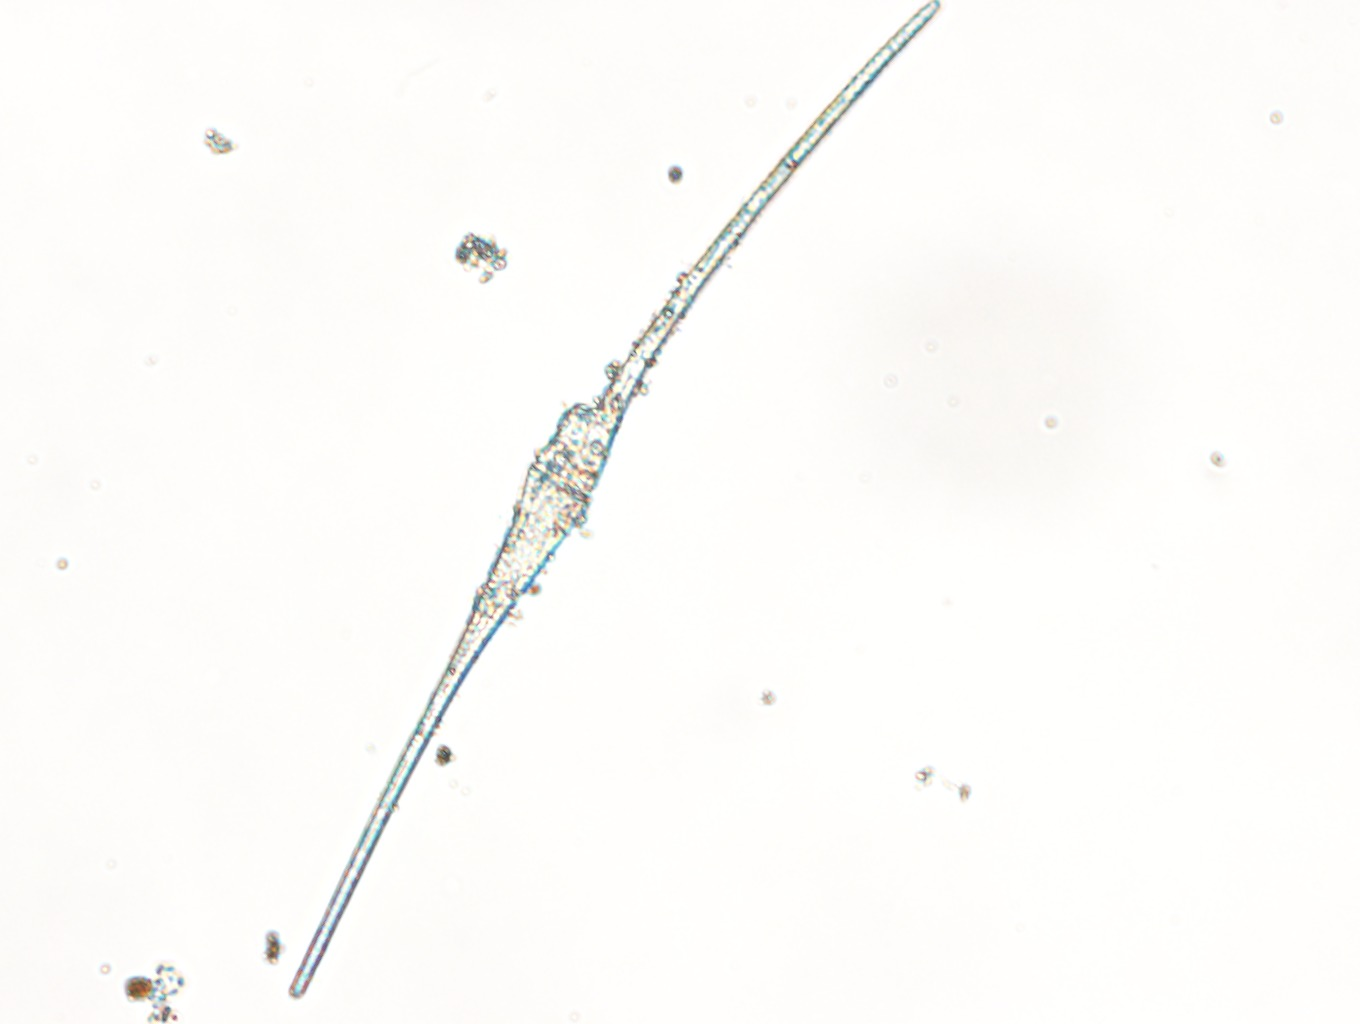ceratium fusus: (288, 1, 946, 998)
